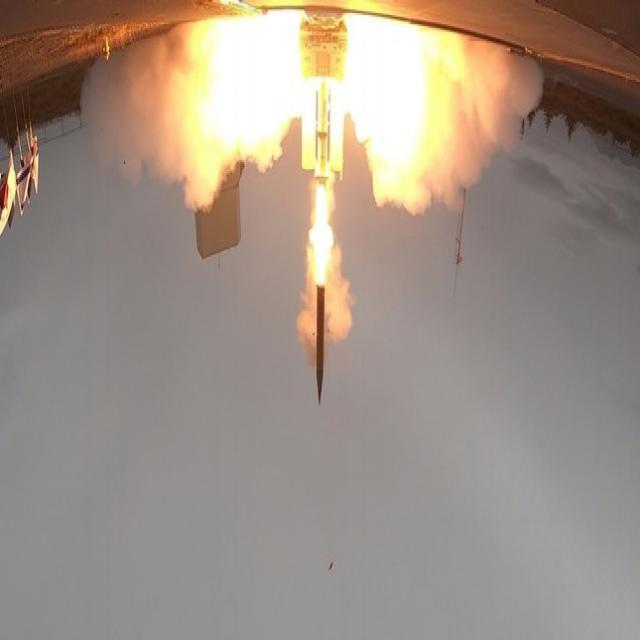Missile: (305, 268, 331, 413)
